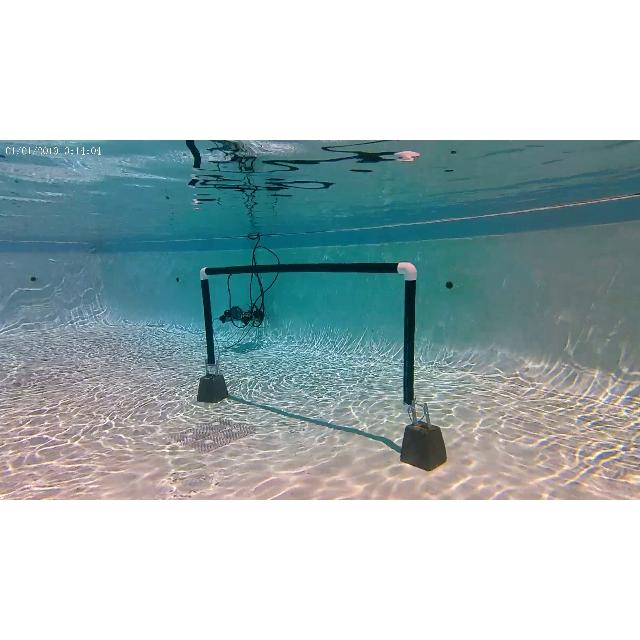prequal gate: (201, 263, 419, 409)
prequal gate leg l: (192, 264, 228, 402)
prequal gate leg r: (394, 262, 450, 470)
